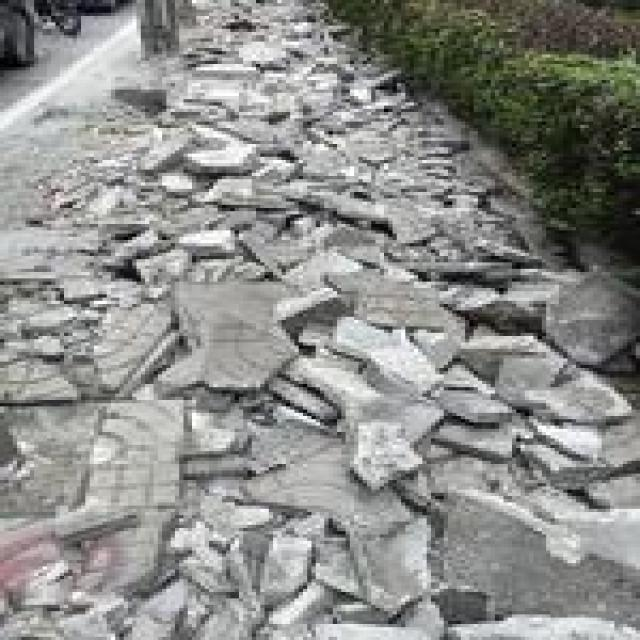road collapse: (31, 2, 620, 640)
